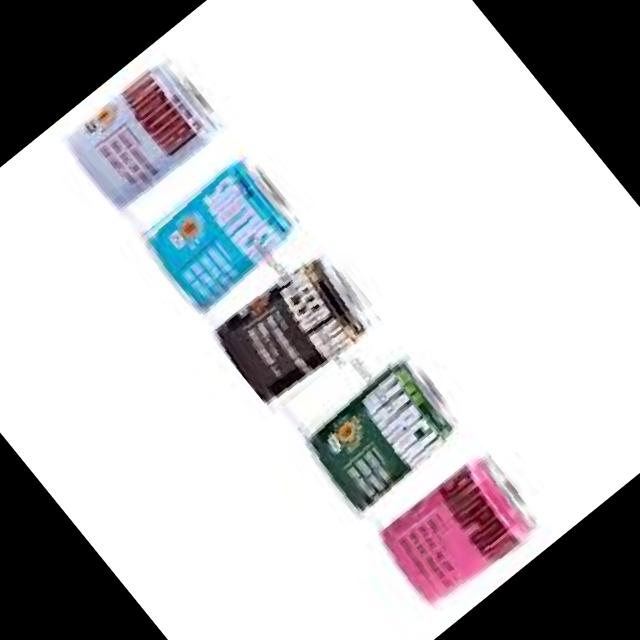Cans: (282, 330, 485, 526), (208, 240, 398, 423), (130, 142, 318, 324), (369, 439, 558, 619), (55, 46, 238, 224)
